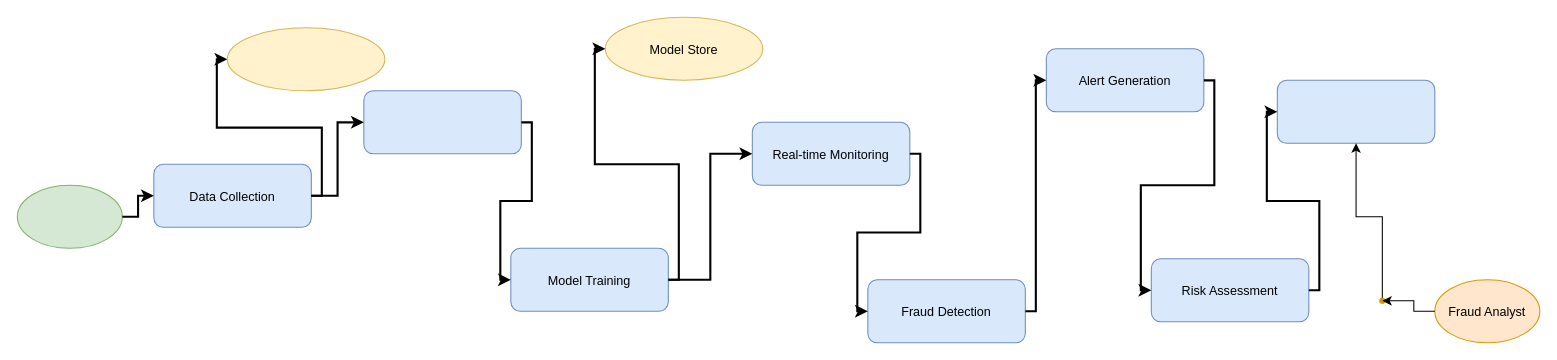
This 1557x360 diagram has some shape labels left out. The centre of each missing label's shape, as x and y in pixels:
"Data Preprocessing" goes at pixel 442 122.
"Fraud Prevention" goes at pixel 1355 111.
"Transaction Data Store" goes at pixel 305 59.
"User" goes at pixel 69 216.
